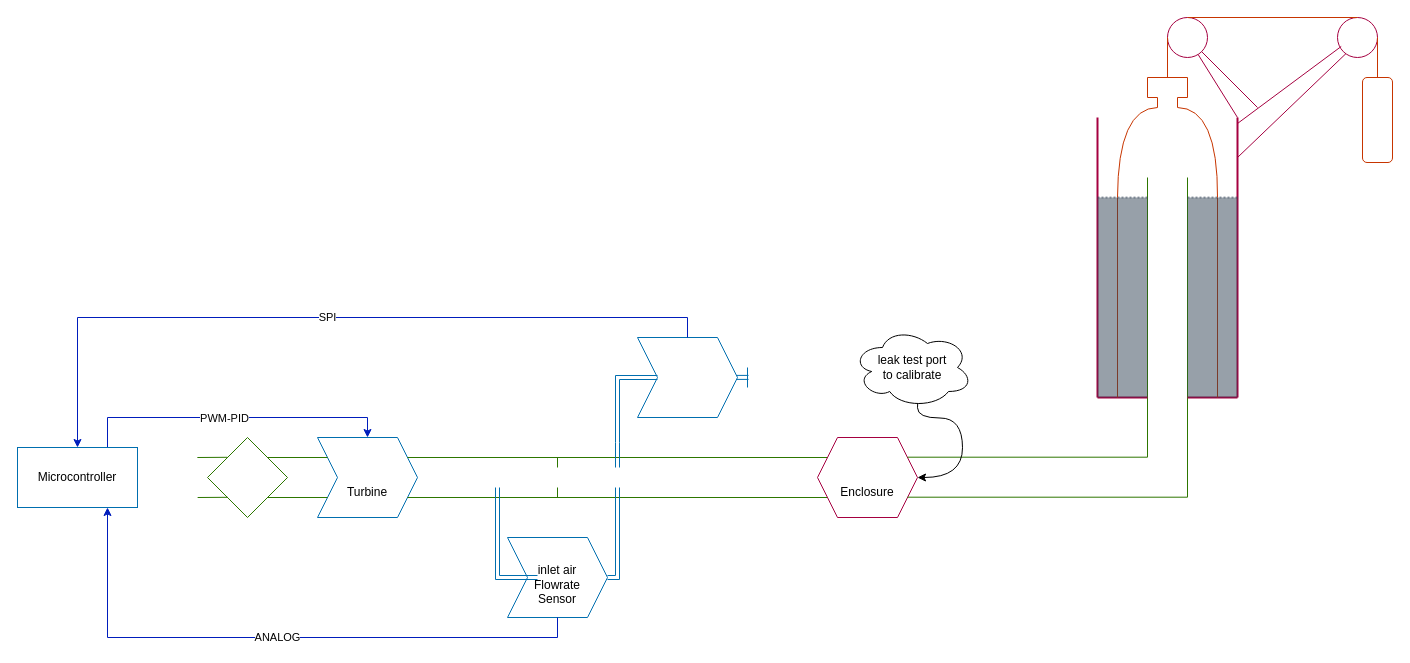
This 1410x663 diagram has some shape labels left out. Here are the shapes that lost their labels. From the top down, the box of each, then its label:
(636, 336, 738, 418): Pressure Sensor
(206, 436, 288, 518): Air Filter
